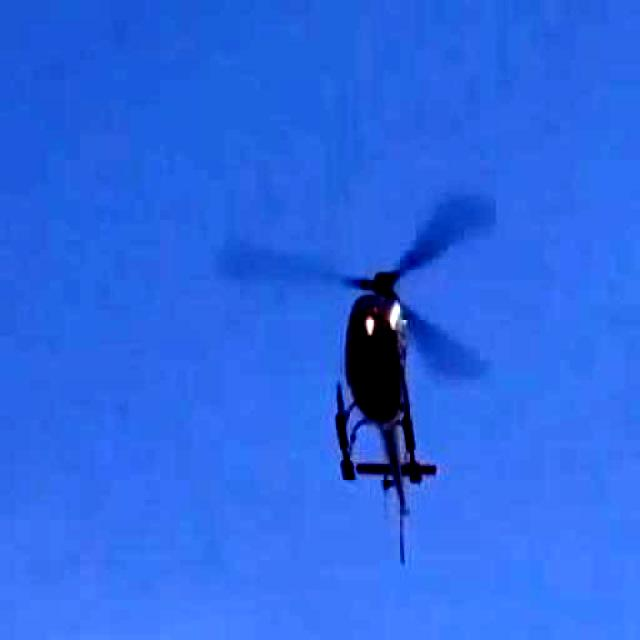drone: (241, 164, 569, 592)
